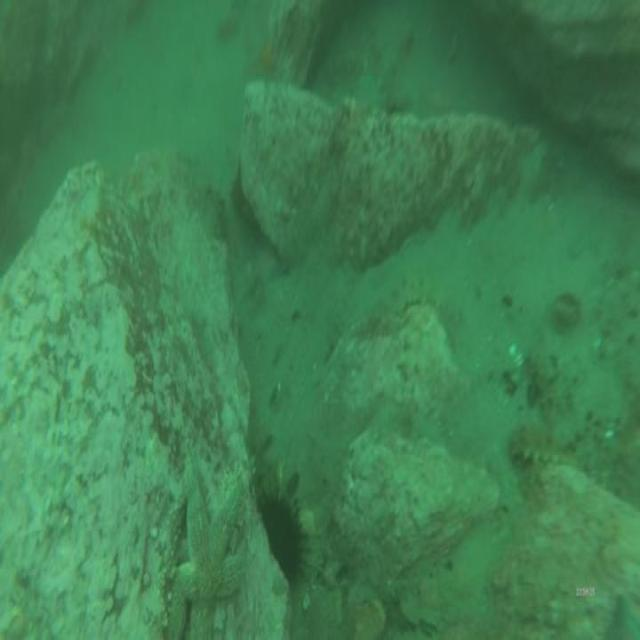echinus: (260, 493, 303, 583)
holothurian: (509, 427, 572, 469), (396, 282, 440, 312)
starfish: (168, 480, 244, 634)
